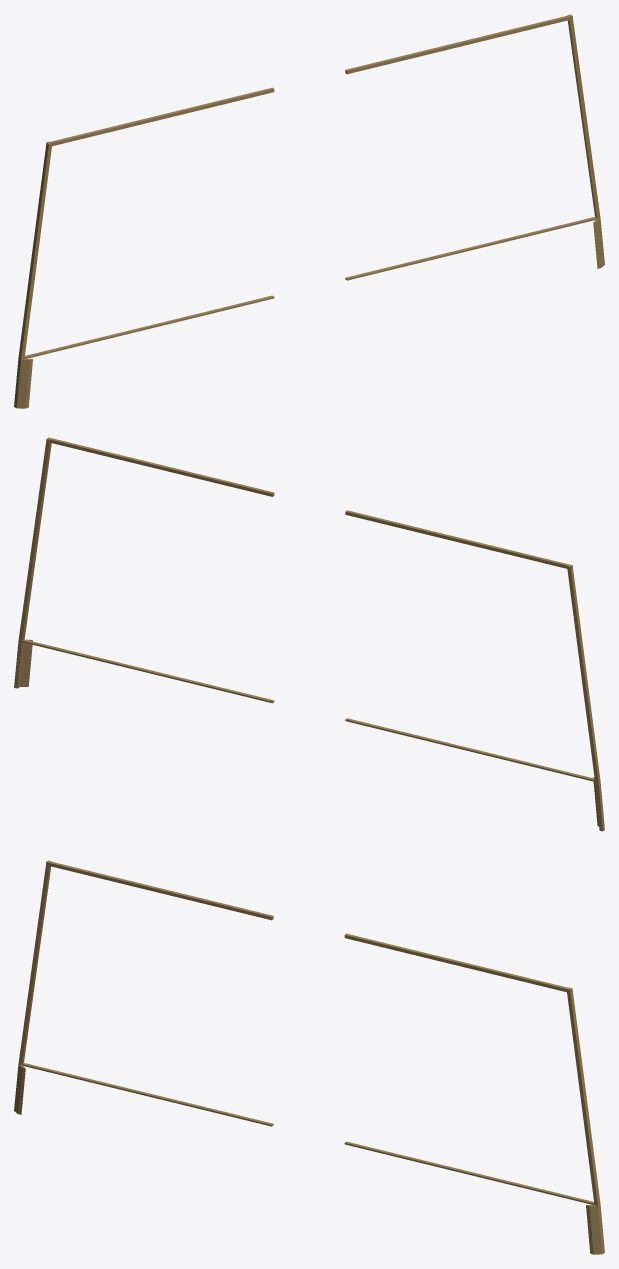
File: G7_Completion_R004_G7C4_Aft_BodySeals.glb
3 views of the same model, one above another, from view 1: azimuth 30°, elevation 25°; view 2: azimuth 150°, elevation 25°; view 3: azimuth 330°, elevation 25° (orthographic).
Visible parts, largest first — view 1: G7C4_Aft_BodySeals_solid_frame; view 2: G7C4_Aft_BodySeals_solid_frame; view 3: G7C4_Aft_BodySeals_solid_frame.
Boxes of the visible parts, x1,y1,x2,y2 form: G7C4_Aft_BodySeals_solid_frame: (14, 14, 604, 408); G7C4_Aft_BodySeals_solid_frame: (14, 437, 604, 831); G7C4_Aft_BodySeals_solid_frame: (14, 860, 604, 1254).
Size of the model in its own units: 110 by 45.84 by 1.5.
1 material, 1 textured.
